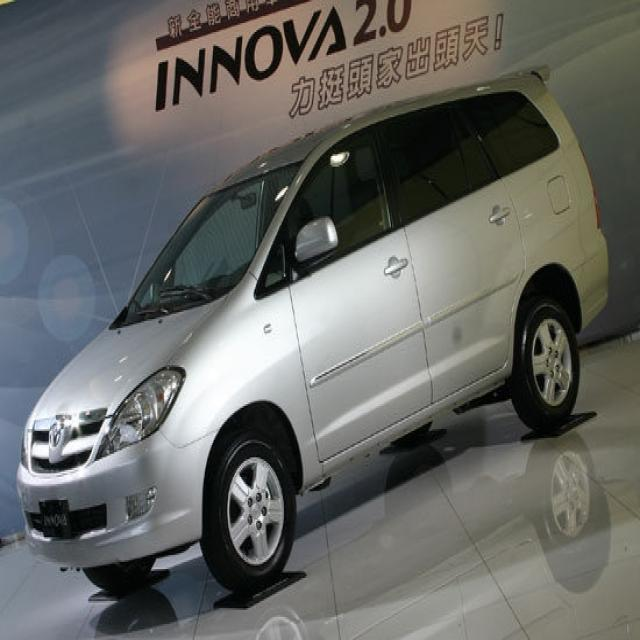light_vehicle: (15, 16, 638, 599)
